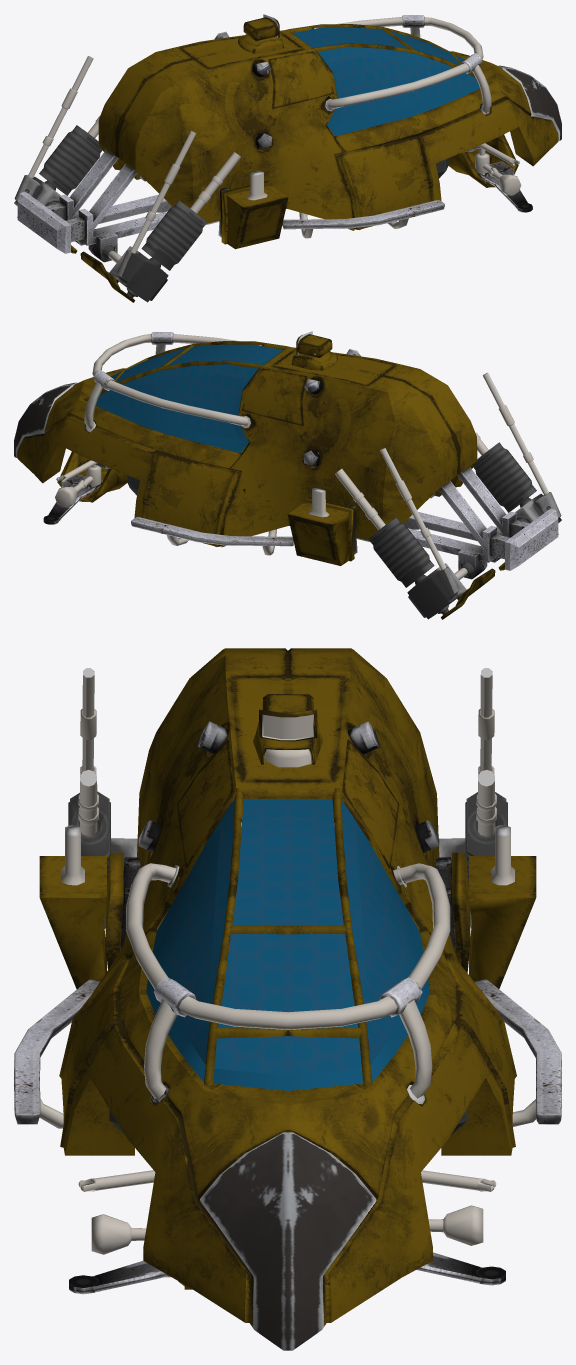
Rendered from Buggy_armor.fbx.
The picture shows the model from 3 angles, top to bottom: view 1: azimuth 30°, elevation 25°; view 2: azimuth 150°, elevation 25°; view 3: azimuth 270°, elevation 25°; orthographic projection. The views are drawn at different scales.
Parts seen in each view (by area): view 1: Buggy_armor; view 2: Buggy_armor; view 3: Buggy_armor.
Part boxes in pixels (<box>): Buggy_armor: <box>14,14,561,302</box>; Buggy_armor: <box>14,331,561,619</box>; Buggy_armor: <box>14,648,561,1350</box>.
Size of the model in its own units: 573 by 211 by 268.
